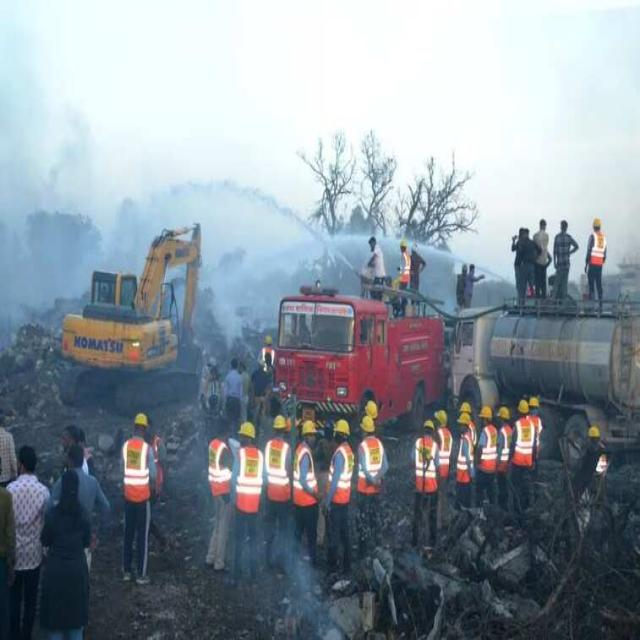emergency: (274, 289, 444, 422)
truck: (61, 226, 200, 413), (449, 306, 640, 442)
